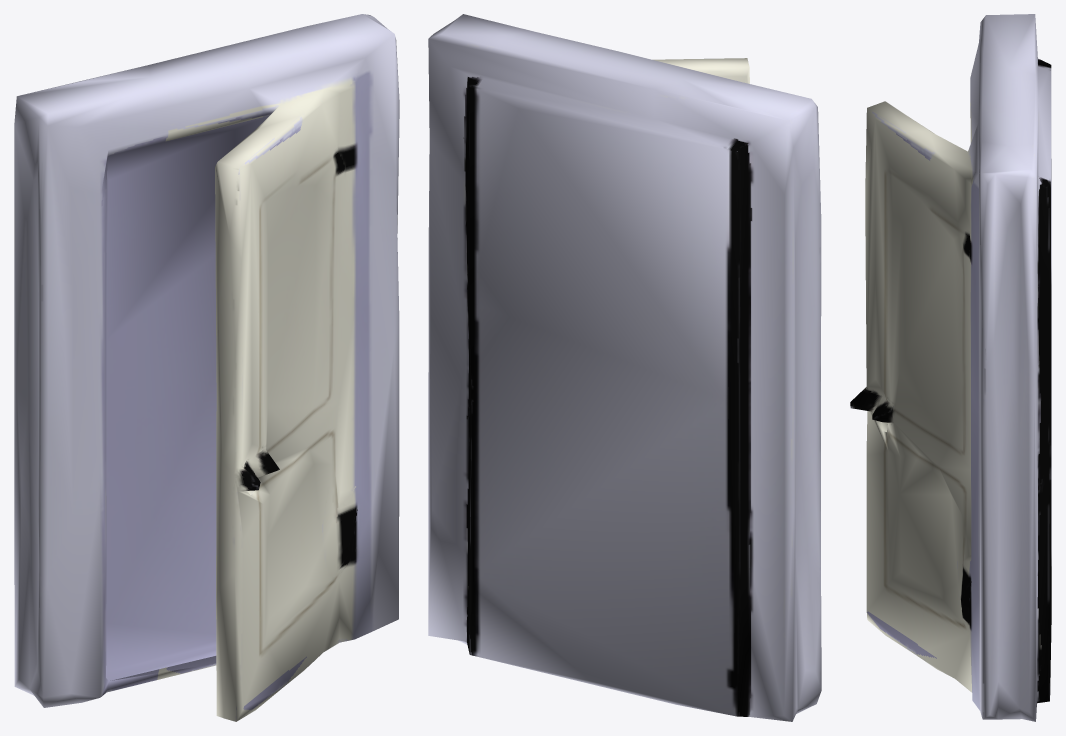
The model's file is open-pocket-doorway.glb.
3 views of the same model, side by side, from view 1: azimuth 30°, elevation 25°; view 2: azimuth 150°, elevation 25°; view 3: azimuth 270°, elevation 25° (orthographic). The views are drawn at different scales.
Visible parts, largest first — view 1: geometry_0.001; view 2: geometry_0.001; view 3: geometry_0.001.
Part boxes in pixels (x1=…): geometry_0.001: x1=14, y1=14, x2=399, y2=721; geometry_0.001: x1=428, y1=14, x2=821, y2=721; geometry_0.001: x1=850, y1=14, x2=1051, y2=721.
Size of the model in its own units: 0.63 by 1 by 0.3302.
1 material, 1 textured.
